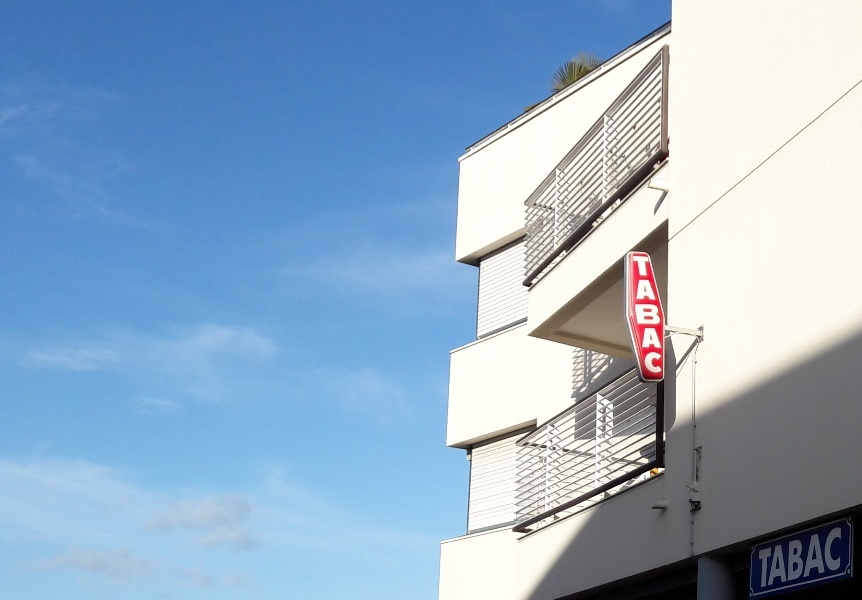text: (641, 255, 656, 375), (627, 255, 640, 375), (657, 255, 667, 375), (769, 526, 784, 589), (785, 526, 800, 589), (801, 526, 816, 589), (817, 526, 832, 589), (759, 526, 768, 589), (833, 526, 842, 589)
